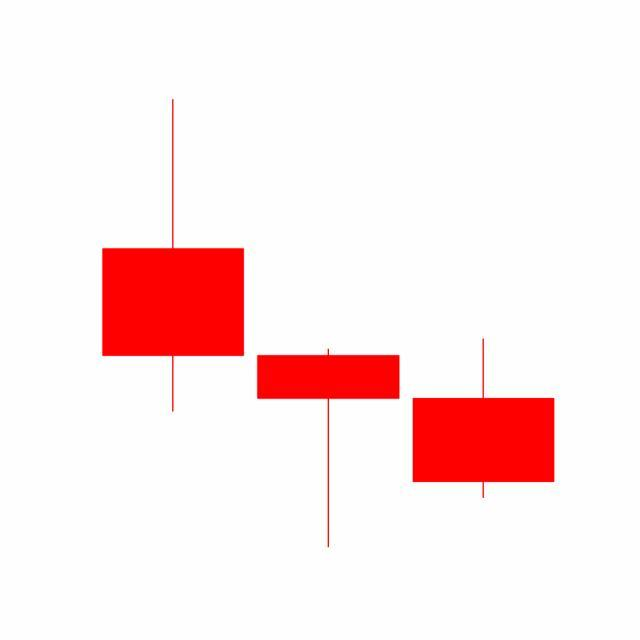Hammer: (250, 347, 407, 551)
